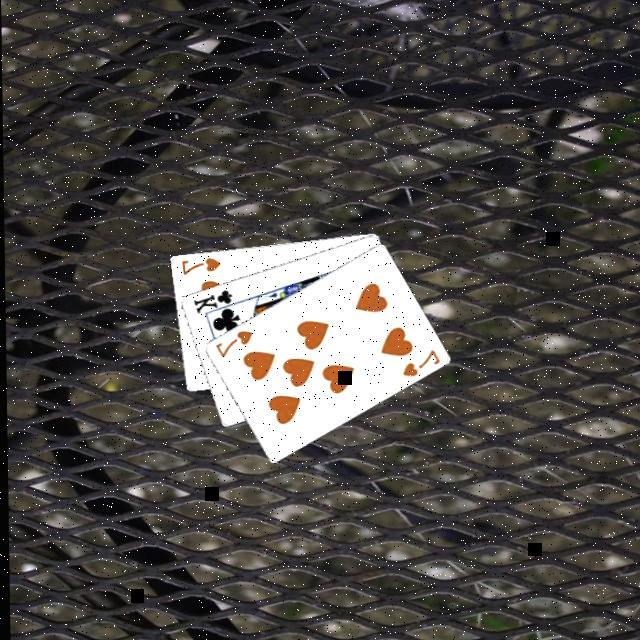7H: (396, 345, 440, 379), (209, 327, 253, 359), (176, 254, 220, 277)
KC: (187, 286, 238, 318)
